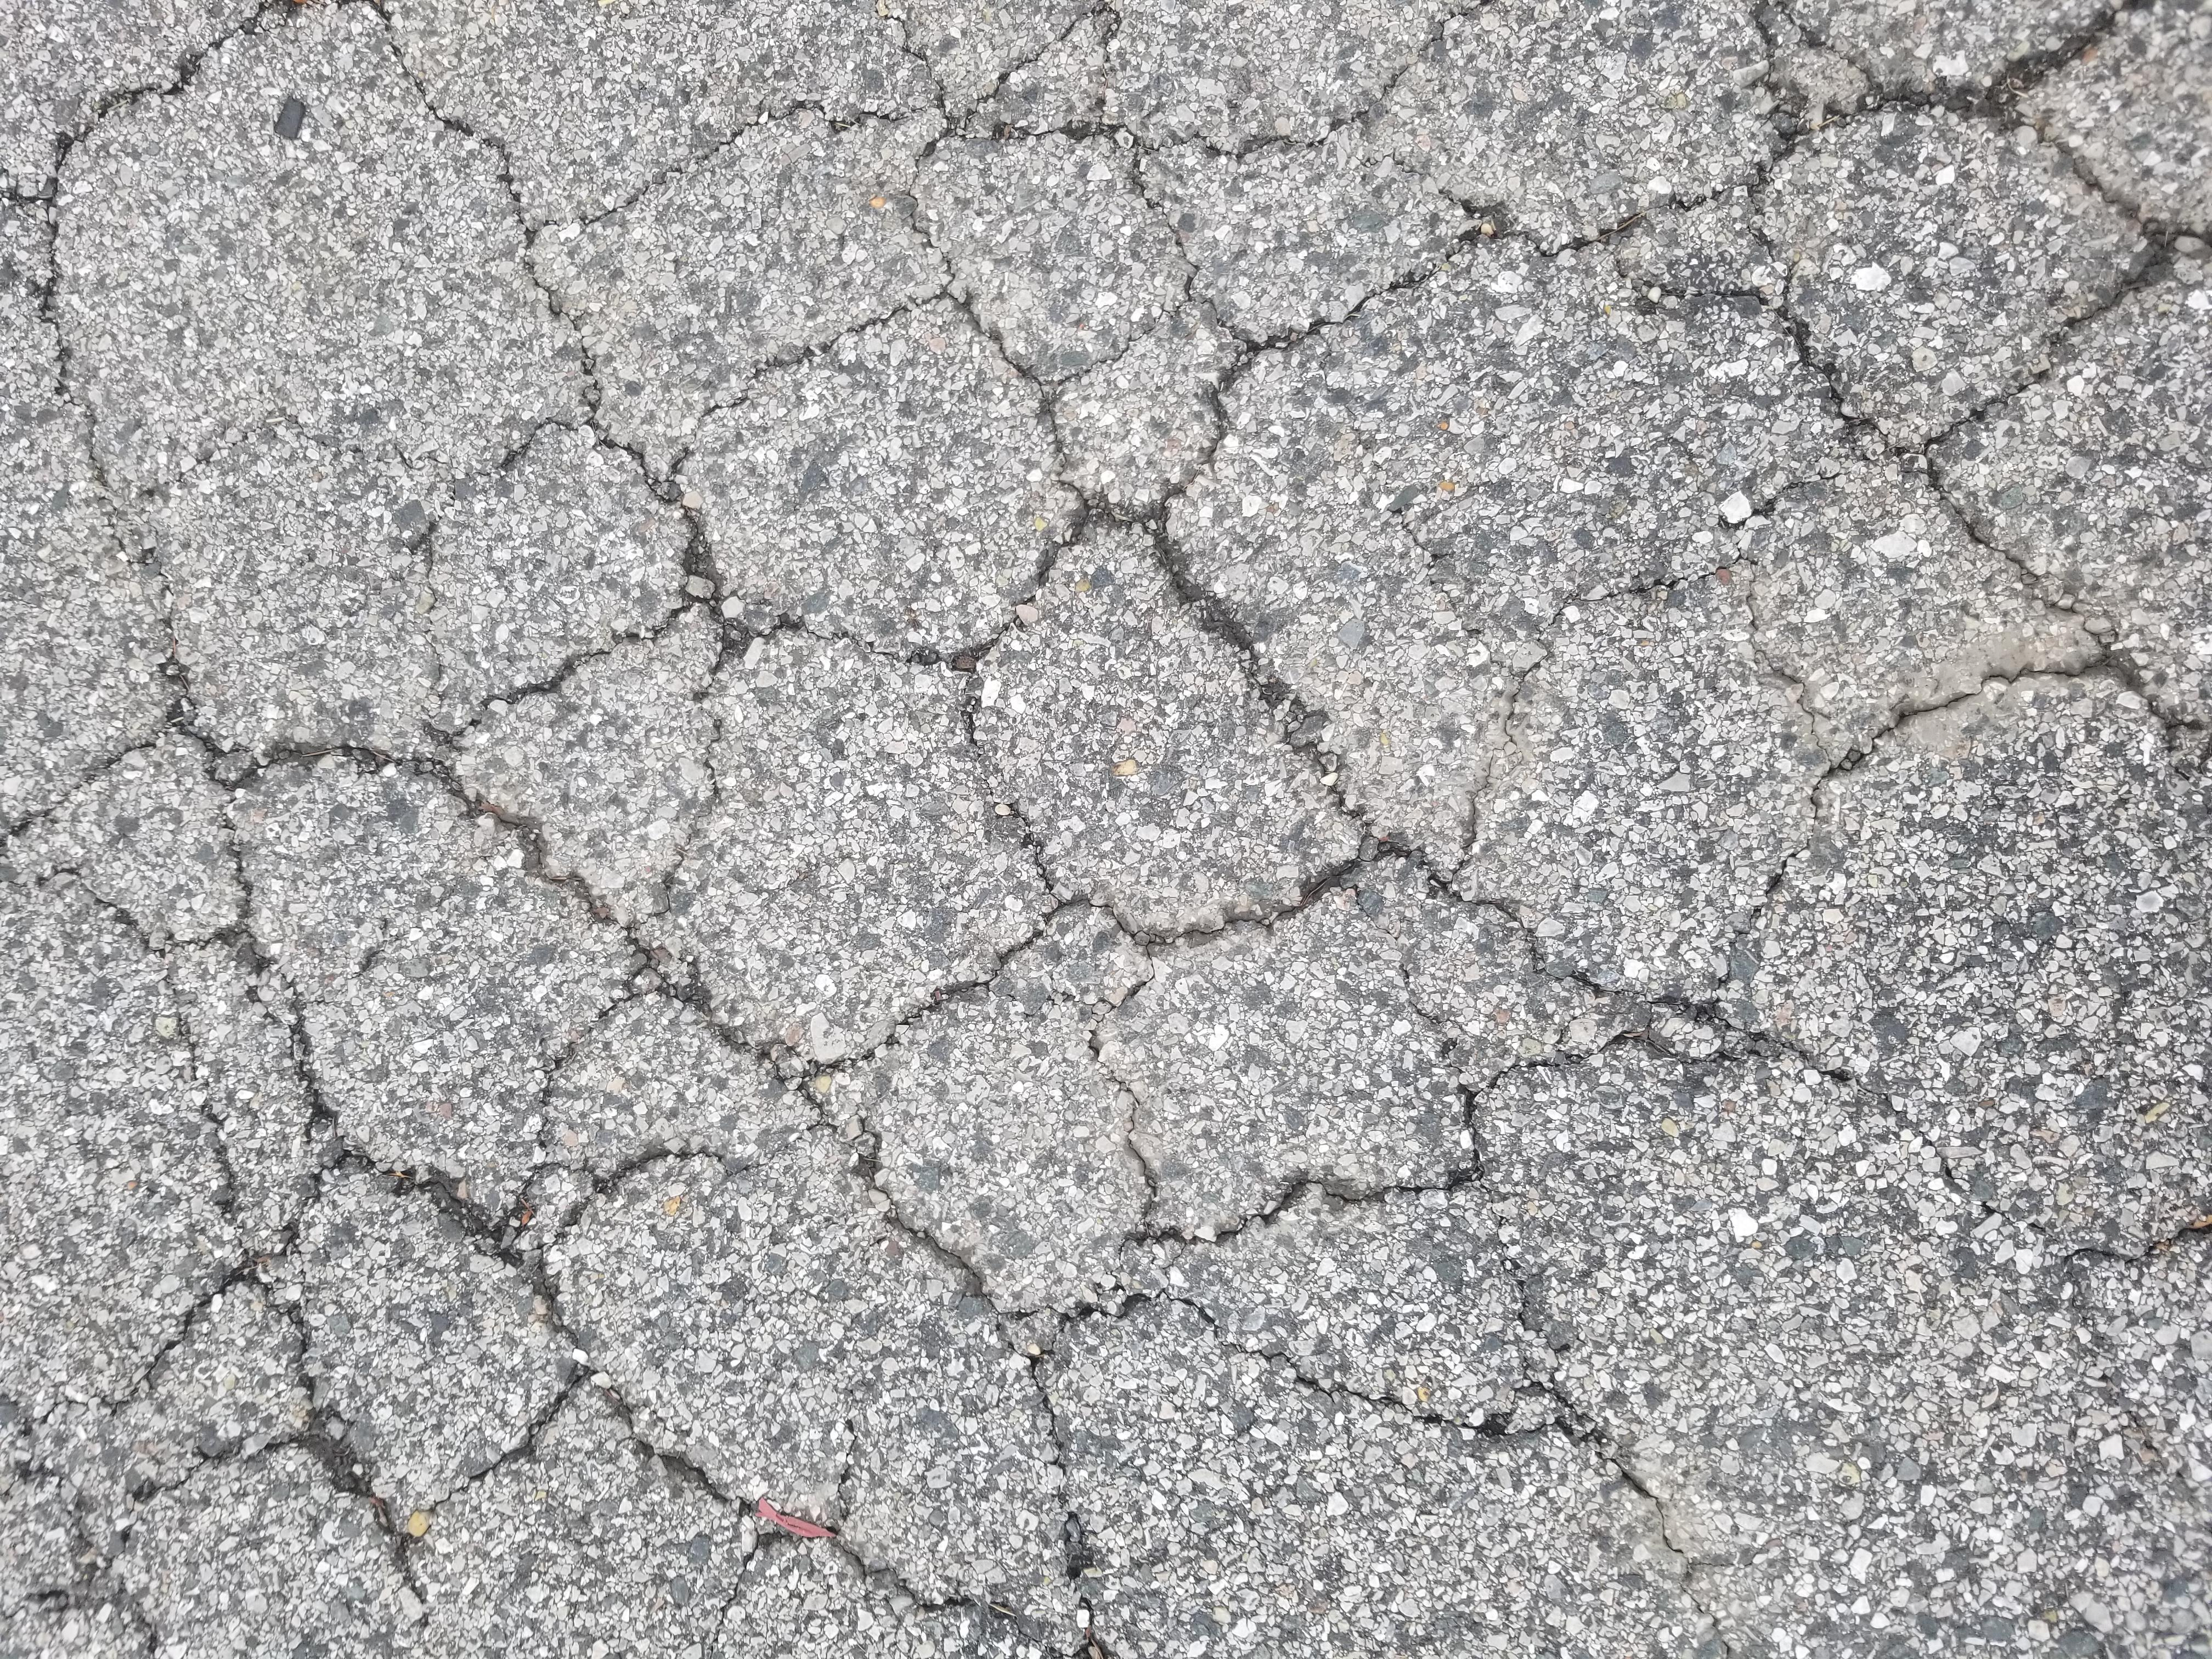alligator-crack: (23, 10, 2212, 1659)
